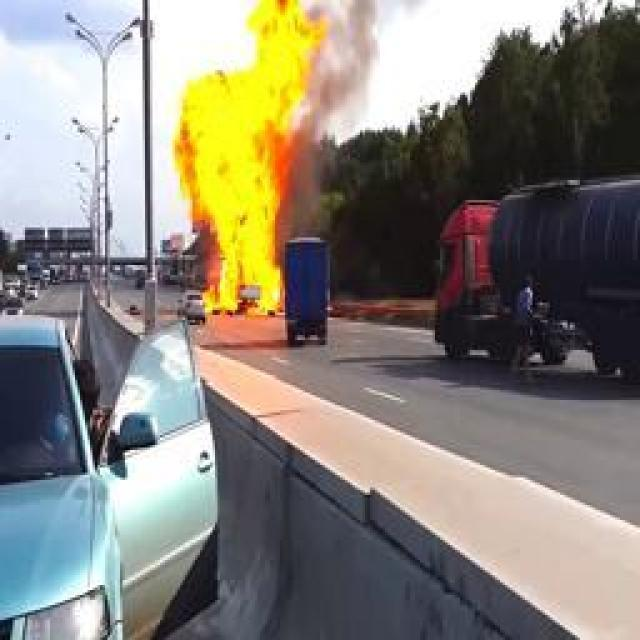Fire: (175, 2, 325, 316)
